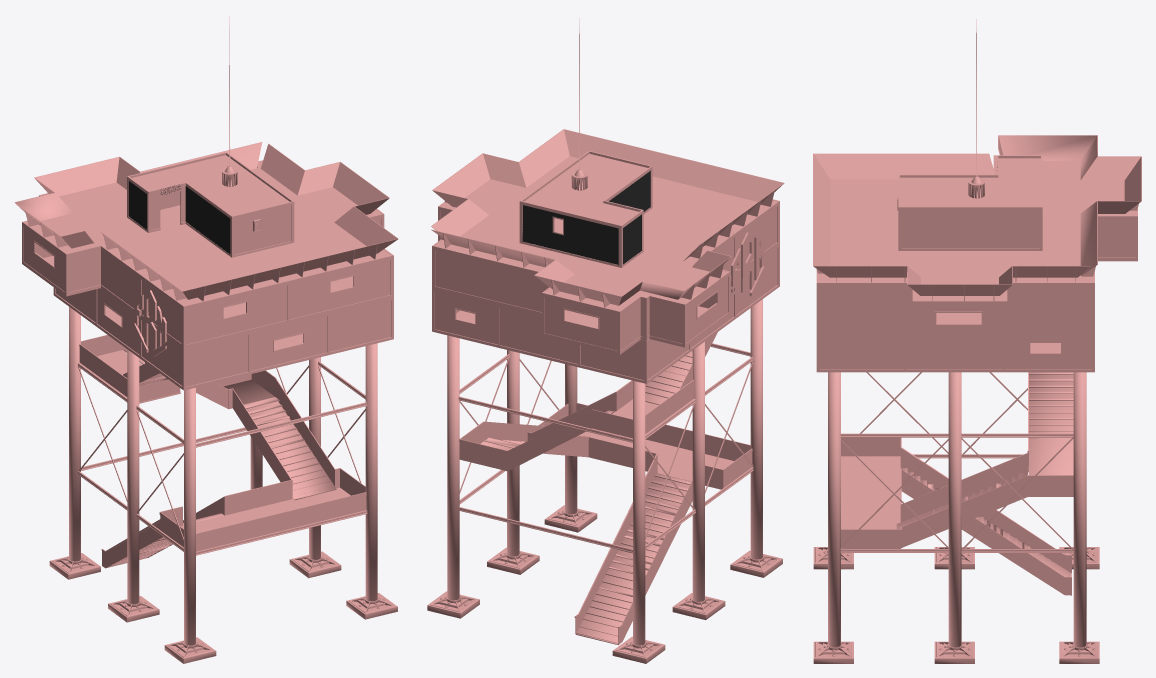
File: Tower_by_justmichael.fbx
The picture shows the model from 3 angles, left to right: view 1: azimuth 30°, elevation 25°; view 2: azimuth 150°, elevation 25°; view 3: azimuth 270°, elevation 25°; orthographic projection. The views are drawn at different scales.
Visible parts, largest first — view 1: UTM_FireGeometry, UTM_Geometry, FRM_Logo_LOD0; view 2: UTM_FireGeometry, UTM_Geometry, FRM_Logo_LOD0; view 3: UTM_FireGeometry, UTM_Geometry.
Part boxes in pixels (x1=…): UTM_FireGeometry: x1=14, y1=16, x2=398, y2=663; UTM_Geometry: x1=102, y1=350, x2=336, y2=566; FRM_Logo_LOD0: x1=128, y1=181, x2=230, y2=253; UTM_FireGeometry: x1=427, y1=18, x2=784, y2=663; UTM_Geometry: x1=575, y1=351, x2=692, y2=645; FRM_Logo_LOD0: x1=522, y1=171, x2=650, y2=265; UTM_FireGeometry: x1=813, y1=19, x2=1141, y2=663; UTM_Geometry: x1=896, y1=375, x2=1073, y2=595.
Size of the model in its own units: 1804 by 3400 by 1681.
